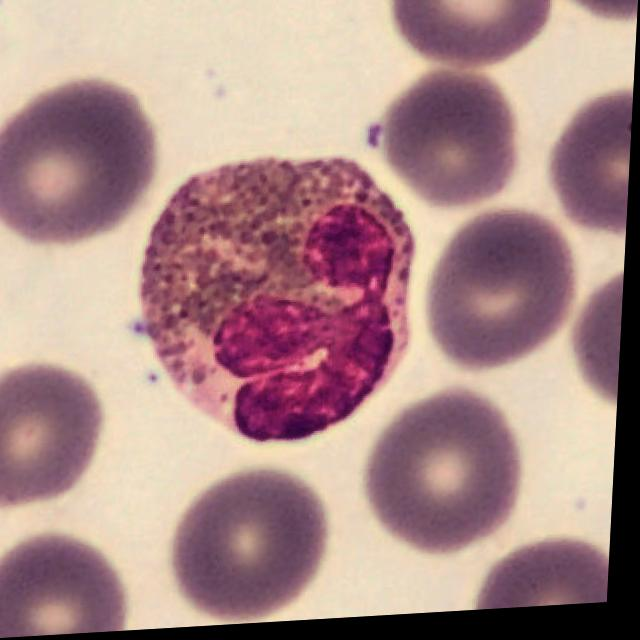Eosinofilo: (143, 162, 418, 447)
